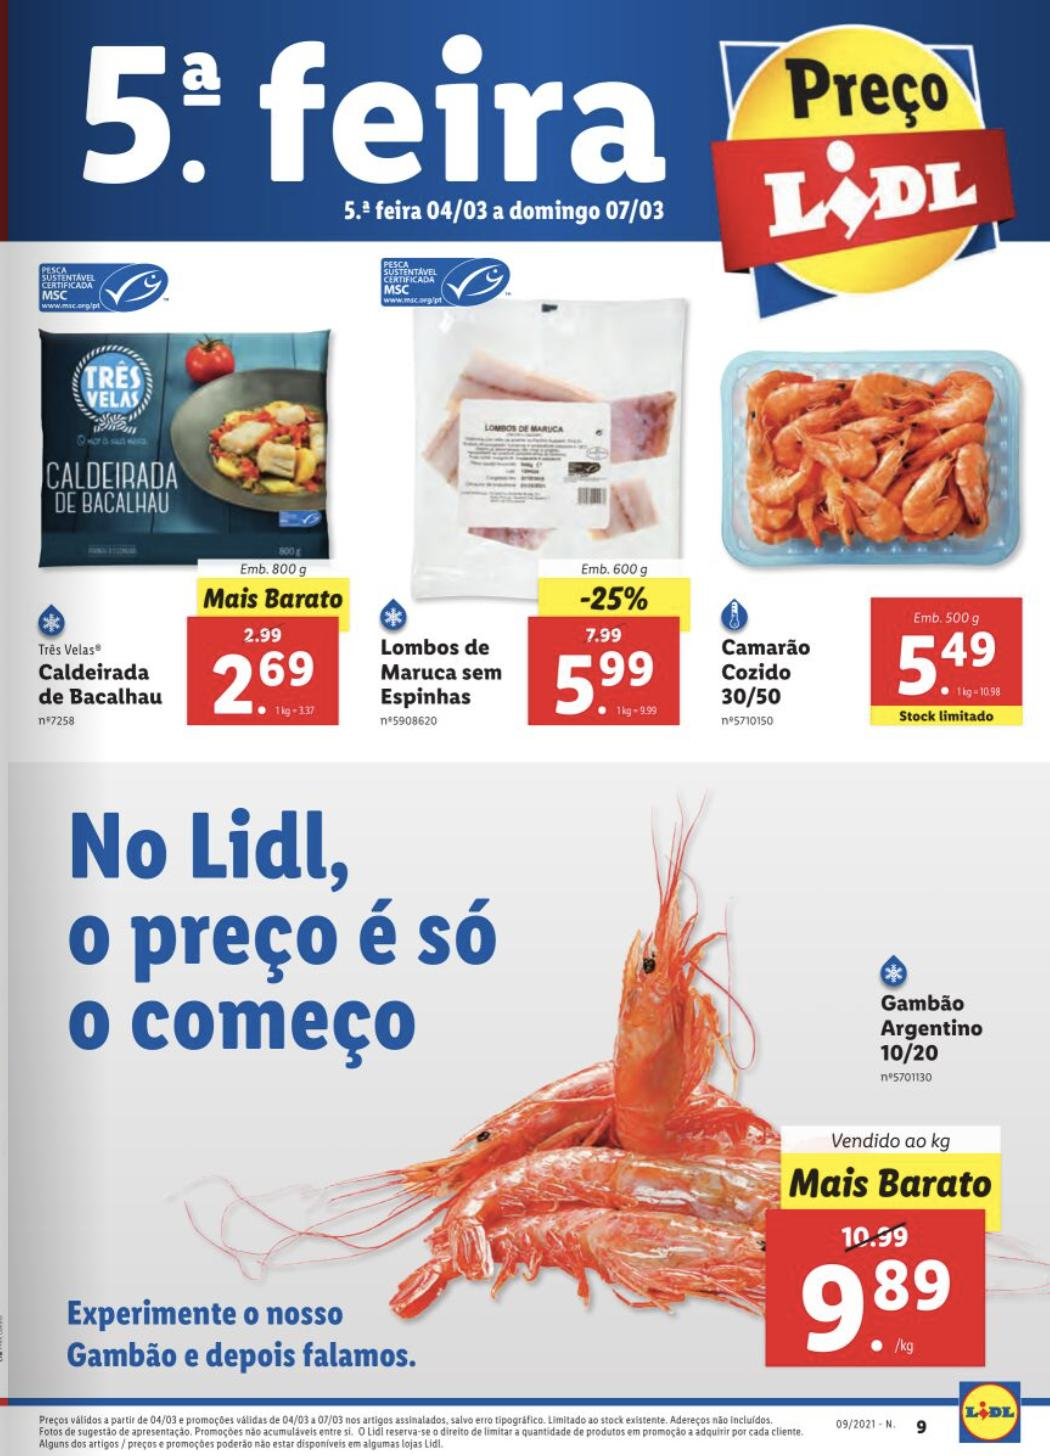name: (374, 638, 514, 707), (873, 994, 983, 1063), (719, 631, 815, 707), (41, 662, 166, 714)
price: (801, 1258, 955, 1358), (208, 647, 323, 723), (548, 643, 665, 714), (894, 623, 997, 702)
product: (397, 807, 1026, 1390), (15, 246, 357, 747), (357, 246, 694, 749), (714, 333, 1026, 762)
promotion: (579, 583, 654, 618)
